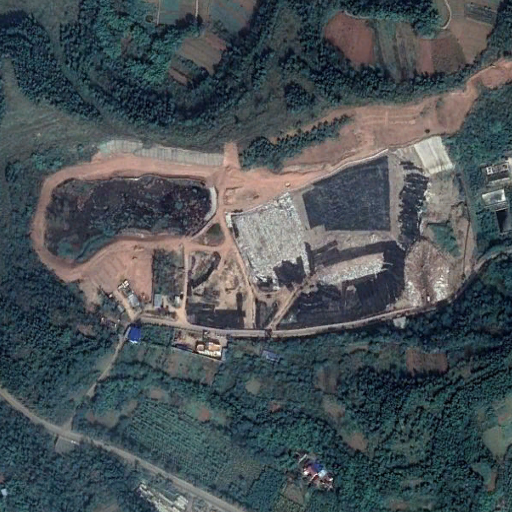lf: (184, 133, 469, 330)
